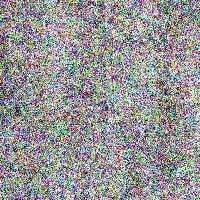crazing: (17, 75, 162, 150), (0, 0, 114, 53)
